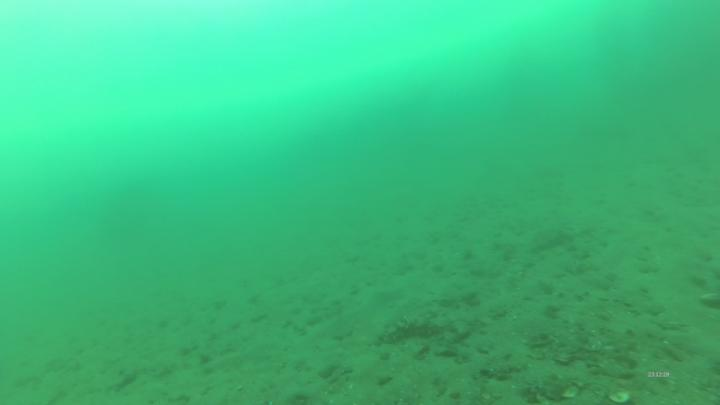holothurian: (380, 312, 448, 345)
